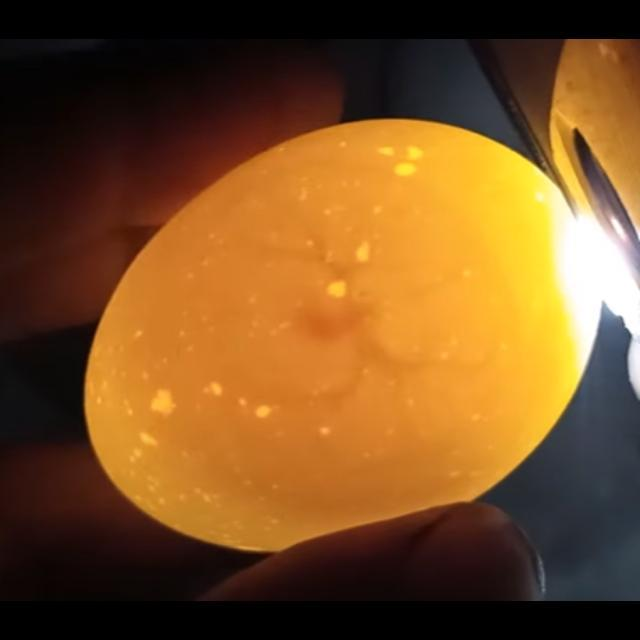Fertile: (67, 106, 613, 560)
